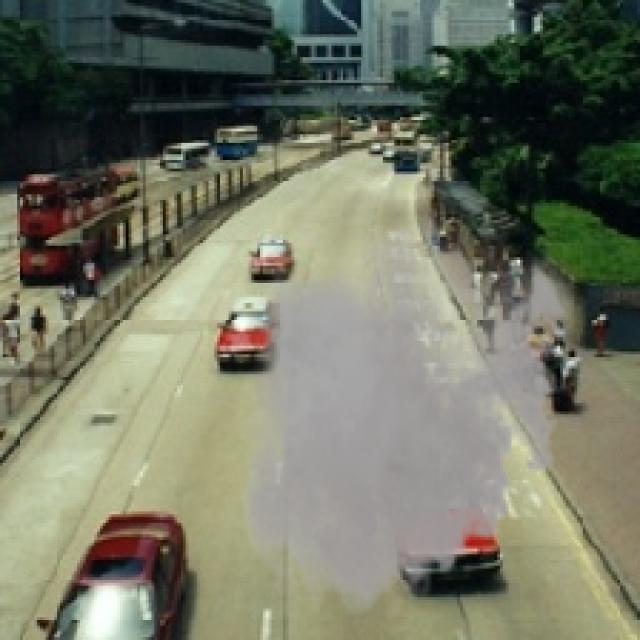smoke: (232, 203, 577, 628)
